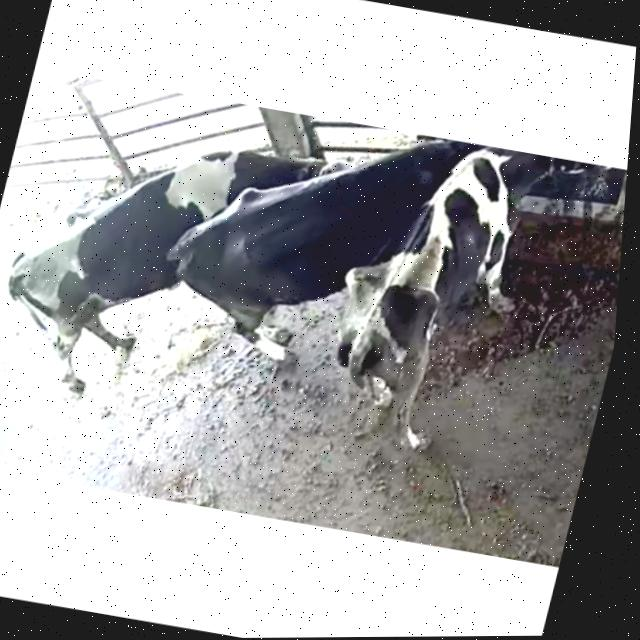drink: (463, 143, 621, 228), (375, 128, 498, 196)
